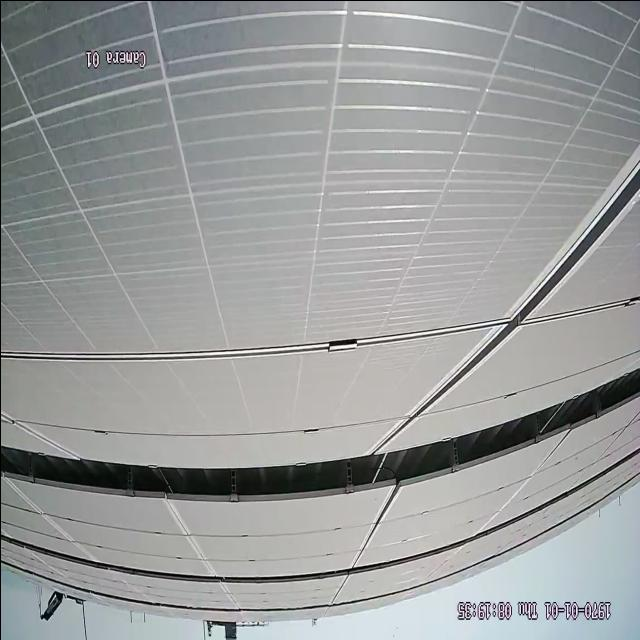interior panel: (381, 143, 640, 435), (163, 510, 214, 571), (357, 497, 405, 551)
outher panel: (0, 364, 640, 503)
